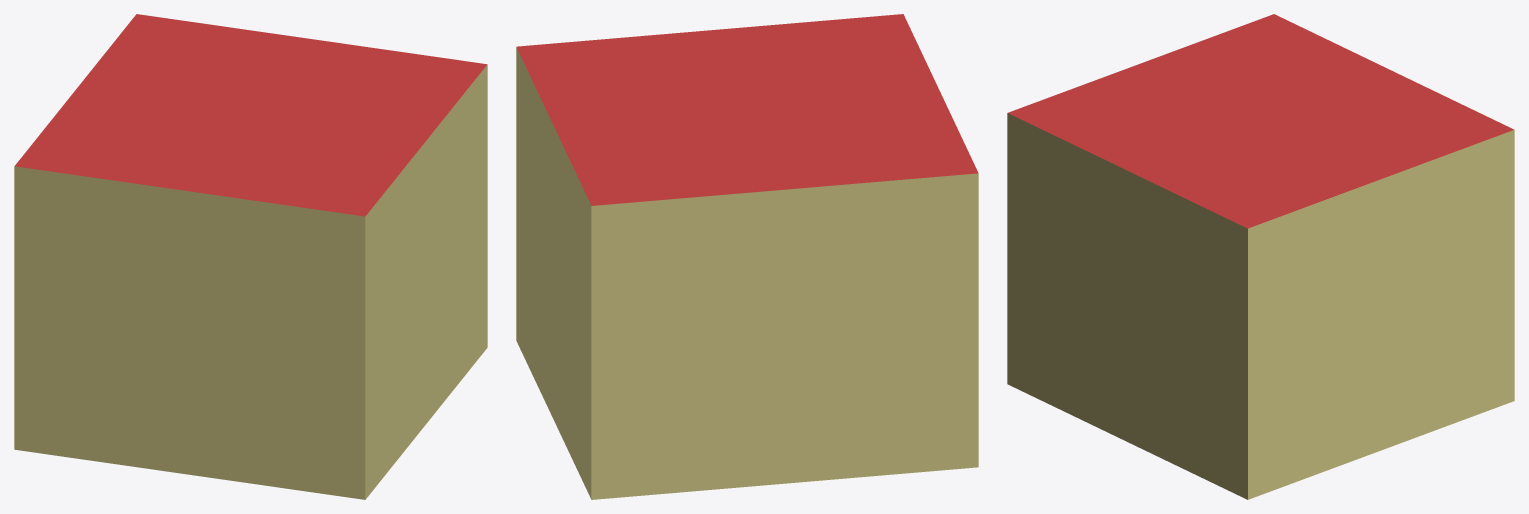
3 renders of one model, left to right at view 1: azimuth 30°, elevation 25°; view 2: azimuth 150°, elevation 25°; view 3: azimuth 270°, elevation 25°, orthographic. The views are drawn at different scales.
Bounding box in the file's own units: 8.72 × 8.71 × 5.14.
